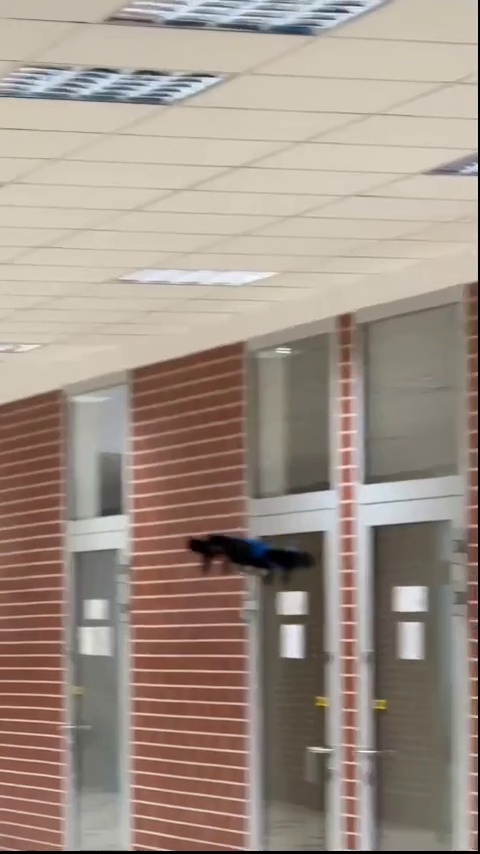drone: (191, 529, 318, 586)
